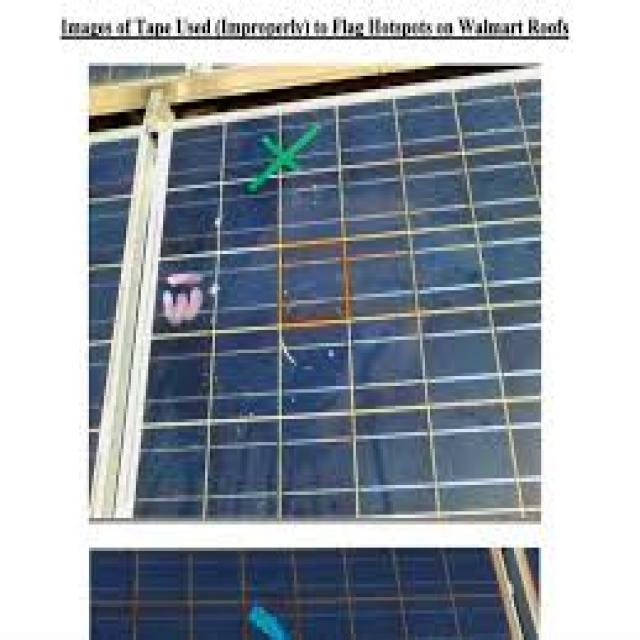faulty: (141, 80, 560, 526)
